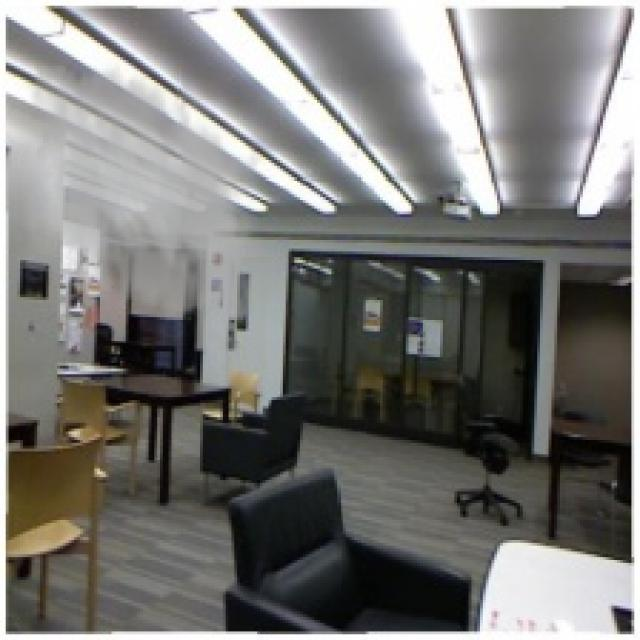smoke: (11, 52, 280, 334)
